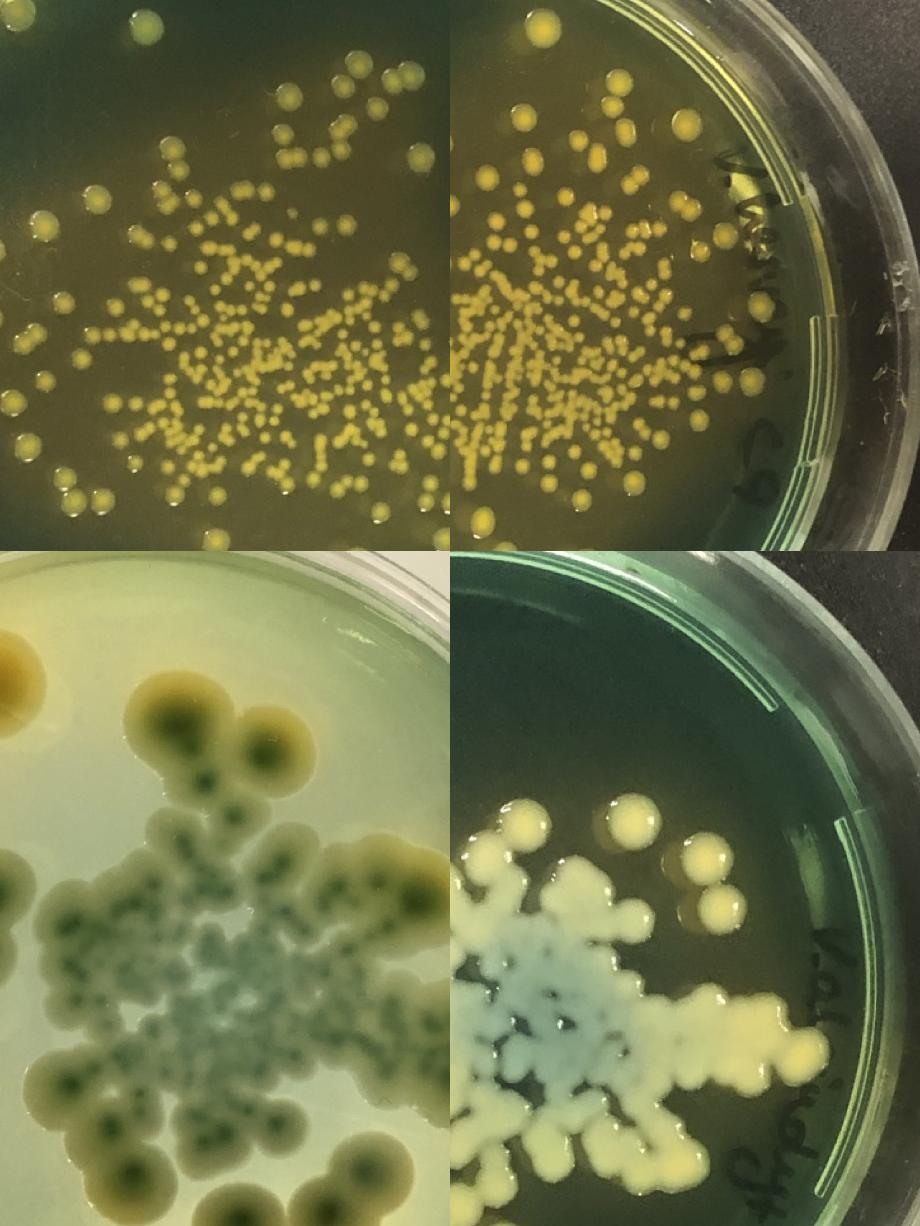valgino: (125, 672, 316, 804), (188, 1128, 412, 1226), (466, 1038, 608, 1182), (450, 795, 551, 917), (0, 847, 37, 1093), (680, 830, 750, 936), (623, 1113, 711, 1197), (376, 851, 450, 949), (744, 996, 828, 1082), (88, 1145, 176, 1225), (19, 1050, 96, 1134), (450, 1143, 517, 1226), (0, 628, 44, 739), (250, 1098, 308, 1158), (606, 794, 664, 850), (590, 900, 654, 942), (726, 1055, 772, 1097), (527, 1006, 559, 1040), (538, 883, 570, 916), (592, 1146, 624, 1179), (693, 982, 725, 1015), (477, 948, 509, 980), (480, 1006, 512, 1038), (584, 947, 616, 979), (612, 971, 644, 1003), (638, 994, 670, 1026), (672, 1058, 704, 1090), (450, 938, 465, 987), (450, 1138, 470, 1170), (450, 1089, 457, 1121)
vharveyi: (50, 463, 118, 518), (599, 66, 638, 150), (625, 415, 671, 463), (563, 127, 608, 175), (520, 5, 562, 51), (330, 52, 370, 100), (482, 210, 518, 254), (24, 206, 62, 246), (127, 9, 165, 49), (158, 135, 190, 182), (668, 105, 705, 145), (380, 62, 424, 95), (229, 254, 281, 281), (664, 189, 704, 224), (334, 361, 372, 396), (0, 0, 37, 33), (403, 142, 438, 176), (11, 323, 48, 355), (507, 100, 539, 136), (616, 164, 652, 196), (468, 503, 497, 542), (526, 244, 558, 279), (270, 81, 304, 113), (738, 364, 767, 401), (511, 180, 537, 220), (80, 184, 112, 216), (714, 321, 742, 357), (709, 220, 740, 252), (471, 160, 500, 194), (538, 453, 562, 494), (360, 400, 386, 437), (386, 250, 417, 281), (406, 378, 436, 410), (619, 468, 648, 500), (518, 144, 545, 178), (746, 291, 774, 323), (328, 476, 368, 498), (357, 279, 397, 301), (199, 525, 232, 551), (12, 432, 40, 462), (178, 352, 204, 383), (416, 476, 438, 512), (568, 486, 596, 514), (0, 388, 26, 418), (231, 181, 272, 200), (368, 354, 392, 386), (454, 247, 482, 273), (127, 225, 154, 251), (686, 238, 709, 266), (686, 408, 709, 436), (587, 417, 612, 442), (51, 290, 75, 316), (270, 122, 294, 148), (308, 392, 332, 418), (336, 111, 360, 137), (365, 96, 389, 122), (427, 524, 450, 551), (83, 326, 114, 346), (276, 148, 306, 168), (185, 450, 208, 476), (554, 183, 578, 207), (710, 370, 734, 394), (390, 323, 412, 348), (34, 371, 58, 393), (68, 350, 92, 372), (148, 179, 172, 201), (265, 459, 289, 480), (578, 460, 600, 482), (212, 301, 246, 315), (654, 256, 672, 282), (388, 449, 407, 473), (250, 338, 272, 358), (255, 281, 275, 303), (619, 220, 639, 241), (133, 423, 156, 441), (674, 303, 694, 323), (650, 220, 669, 241), (122, 319, 140, 341), (216, 424, 234, 446), (279, 428, 297, 450), (165, 423, 182, 446), (204, 244, 236, 256), (489, 539, 521, 551), (182, 294, 200, 315), (231, 366, 254, 382), (520, 223, 540, 241), (566, 443, 584, 463), (371, 503, 389, 522), (194, 396, 222, 408), (290, 242, 314, 256), (450, 192, 462, 220), (162, 374, 175, 399), (242, 224, 260, 242), (418, 356, 436, 374), (513, 459, 532, 476), (320, 360, 336, 380), (173, 323, 197, 336), (331, 140, 348, 158), (134, 276, 150, 294), (208, 489, 226, 505), (310, 218, 328, 234), (596, 204, 612, 222), (276, 380, 296, 394), (314, 450, 326, 473), (184, 190, 200, 207), (336, 345, 352, 362), (338, 216, 354, 233), (410, 312, 427, 328), (108, 299, 123, 317), (211, 356, 224, 376), (296, 395, 316, 408), (166, 488, 182, 504), (360, 452, 376, 468), (104, 395, 118, 413), (158, 460, 176, 474), (314, 150, 328, 168), (554, 230, 572, 244), (339, 544, 374, 551), (453, 402, 468, 418), (342, 307, 354, 326), (112, 433, 127, 448), (169, 401, 183, 417), (467, 360, 481, 376), (551, 275, 565, 291), (624, 304, 640, 318), (564, 314, 582, 326), (125, 456, 140, 470), (486, 303, 500, 317), (590, 285, 604, 299), (608, 316, 622, 330), (642, 324, 656, 338), (644, 278, 658, 292), (650, 299, 664, 313), (666, 354, 680, 368), (209, 332, 222, 347), (572, 220, 588, 232), (301, 370, 314, 384), (672, 337, 686, 350), (566, 246, 581, 258), (572, 331, 587, 343), (258, 432, 272, 444), (424, 413, 438, 425), (614, 367, 628, 379), (632, 345, 646, 357), (441, 494, 450, 512), (140, 296, 153, 308), (158, 321, 171, 333), (162, 238, 175, 250), (176, 475, 189, 487), (241, 463, 254, 475), (286, 207, 299, 219), (368, 321, 381, 333), (404, 424, 417, 436), (640, 364, 652, 377), (129, 399, 141, 411), (136, 329, 148, 341), (152, 305, 164, 317), (156, 290, 168, 302), (162, 339, 174, 351), (190, 222, 202, 234), (192, 424, 204, 436), (194, 262, 206, 274), (194, 347, 206, 359), (196, 315, 208, 327), (206, 213, 218, 225), (208, 285, 220, 297), (214, 197, 226, 209), (220, 273, 232, 285), (225, 213, 237, 225), (243, 281, 255, 293), (253, 414, 265, 426), (268, 416, 280, 428), (270, 234, 282, 246), (270, 402, 282, 414), (280, 305, 292, 317), (280, 481, 292, 493), (293, 283, 305, 295), (298, 320, 310, 332), (307, 280, 319, 292), (307, 475, 319, 487), (314, 434, 326, 446), (332, 436, 344, 448), (342, 290, 354, 302), (342, 407, 354, 419), (371, 339, 383, 351), (381, 390, 393, 402), (395, 392, 407, 404), (402, 404, 414, 416), (418, 339, 430, 351), (421, 435, 433, 447), (432, 444, 444, 456), (438, 428, 450, 440), (549, 354, 561, 366), (441, 374, 450, 386), (442, 415, 450, 427)
